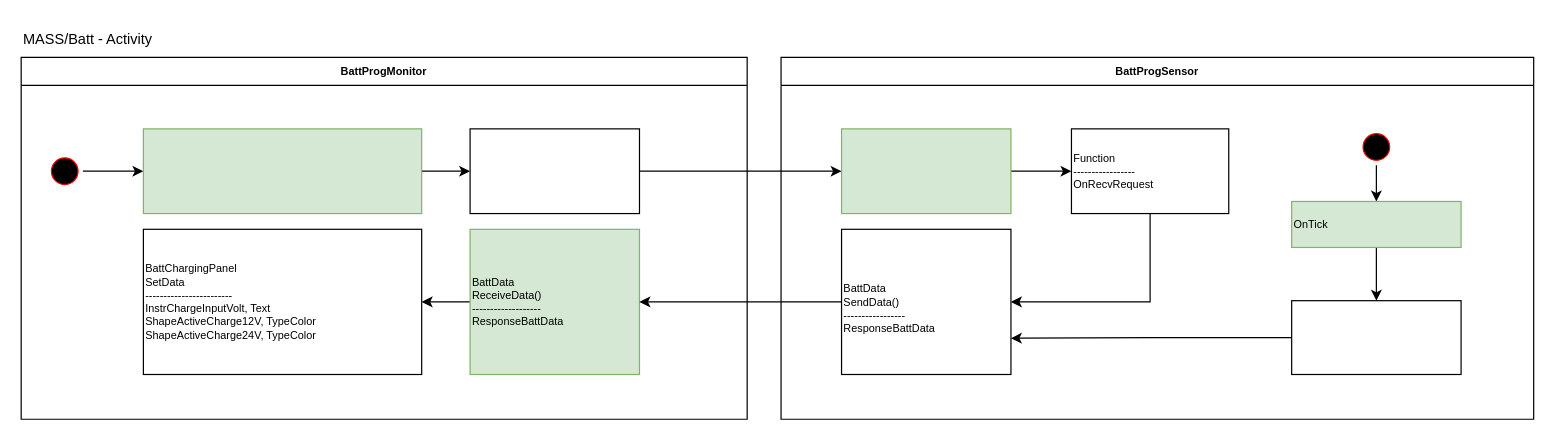
Image size: 1555x440. Some labels were removed from this diagram. Here are the shapes that lost their labels. From the top down, the box of each, then its label:
(142, 128, 422, 214): Run
(469, 128, 639, 214): BattData SendData() ----------------- RequestBattData
(840, 128, 1011, 214): BattData ReceiveData() ----------------- RequestBattData
(1290, 299, 1461, 374): Function ---------------- MonitorBattery()
